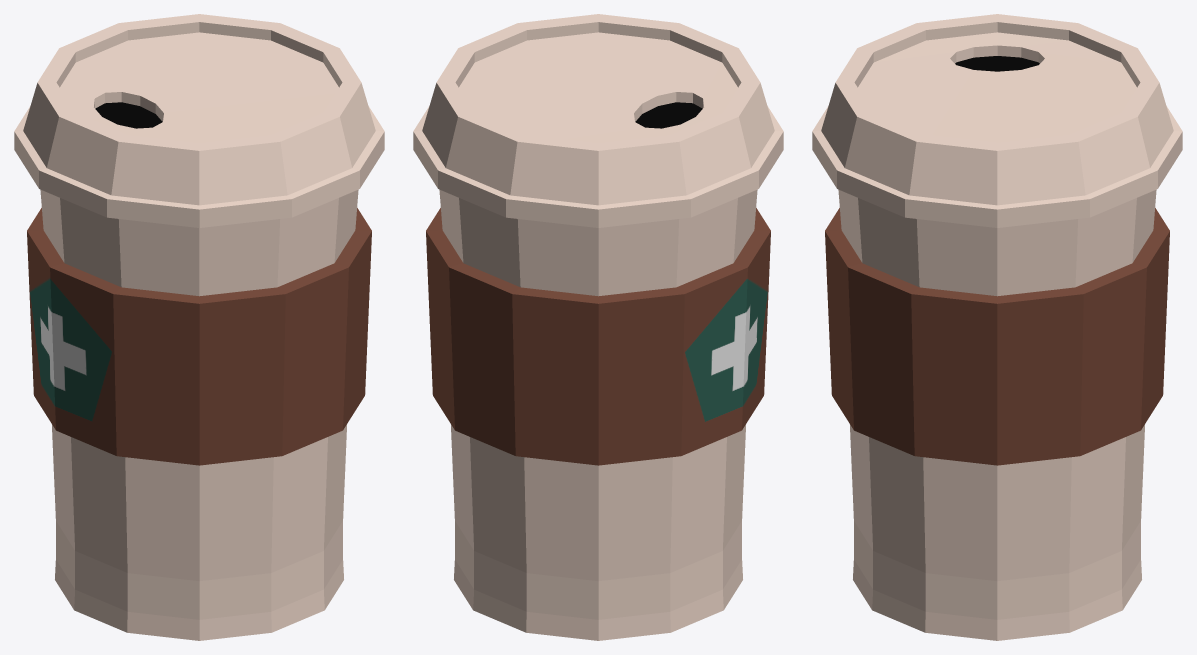
Rendered from fancycoffee (1).fbx.
3 renders of one model, left to right at view 1: azimuth 30°, elevation 25°; view 2: azimuth 150°, elevation 25°; view 3: azimuth 270°, elevation 25°, orthographic.
Visible parts, largest first — view 1: Cylinder; view 2: Cylinder; view 3: Cylinder.
Part boxes in pixels (x1,y1,x2,y2): Cylinder: (14,14,384,640); Cylinder: (413,14,783,640); Cylinder: (812,14,1182,640).
Bounding box in the file's own units: 179 × 266 × 179.
Materials: 1 (1 with a texture image).
